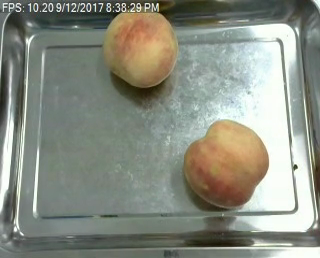Peach: (183, 118, 270, 209), (103, 5, 178, 88)
